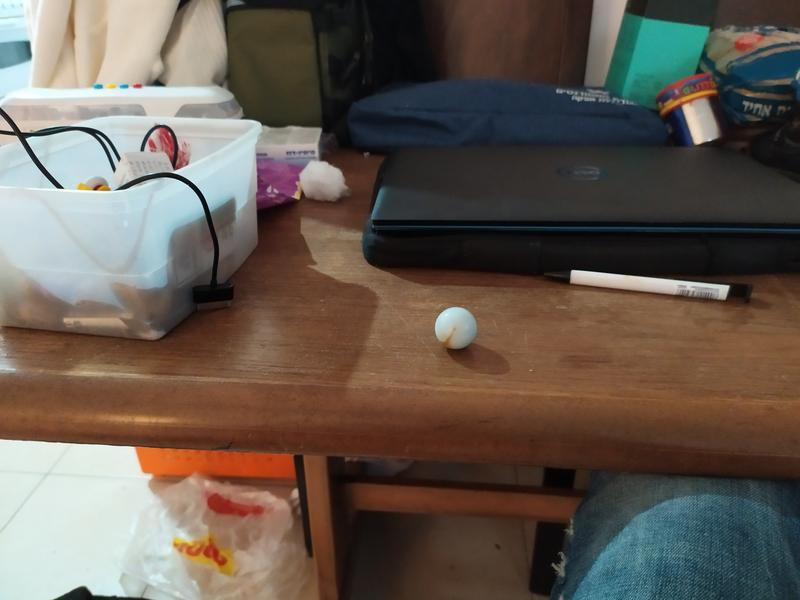Warning: (433, 305, 480, 351)
